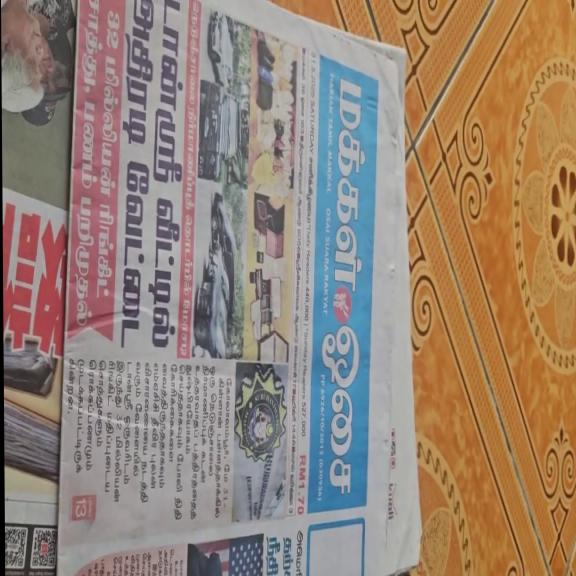Kertas: (59, 8, 315, 558)
